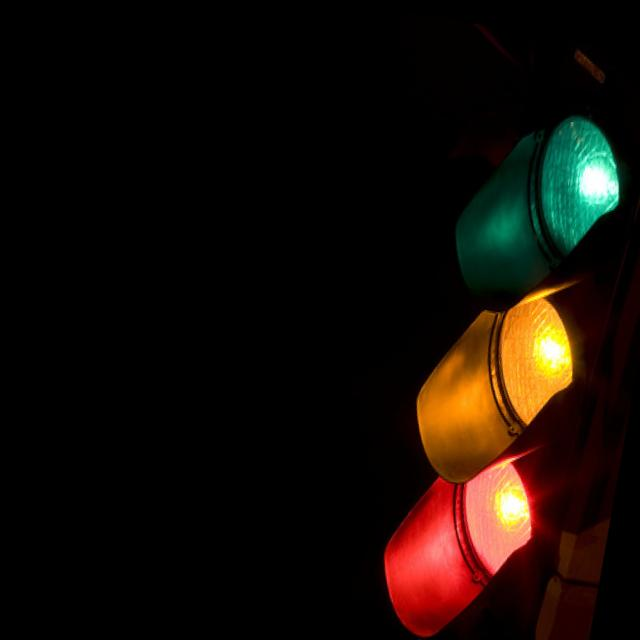green-lights: (508, 107, 630, 277)
red-lights: (422, 444, 546, 609)
yellow-lights: (466, 284, 584, 448)
